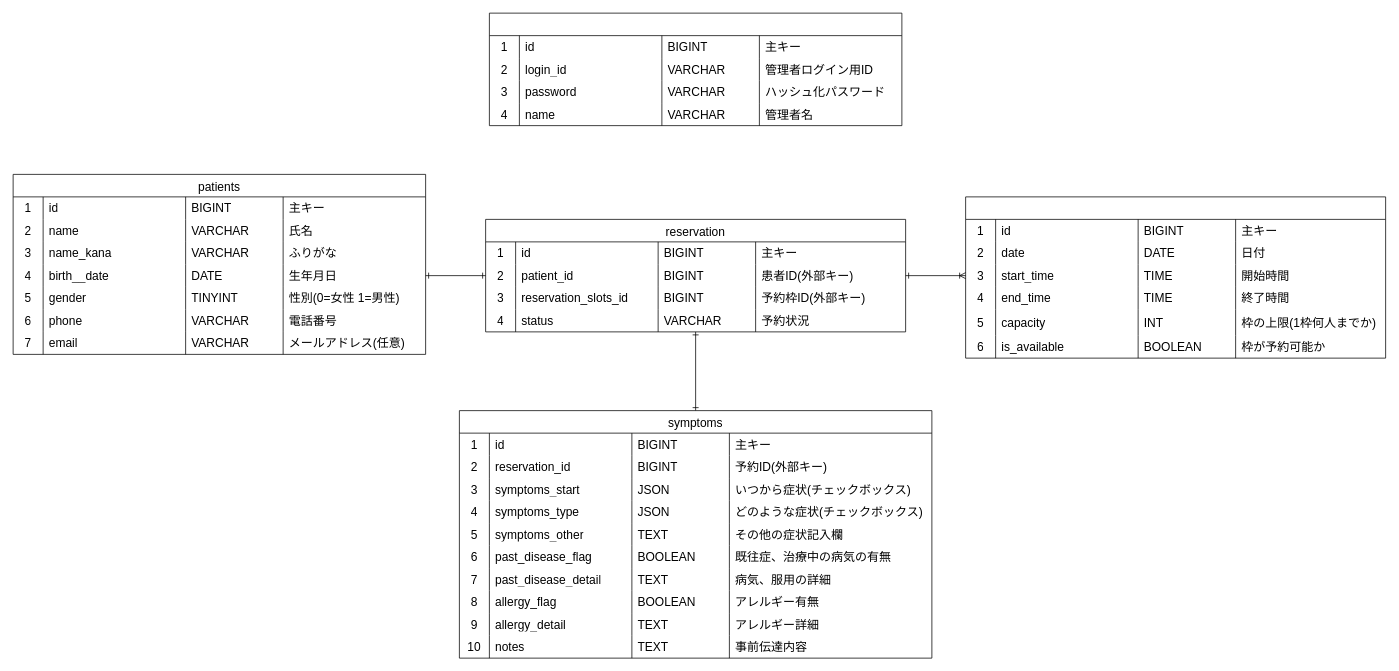
This 1399x671 diagram has some shape labels left out. The shapes that lost their labels are listed below. From the top down, each one's box as (x1, y1, x2, y2) in pixels, then its label:
(489, 12, 902, 126): admins
(965, 196, 1386, 358): reservation_slots
